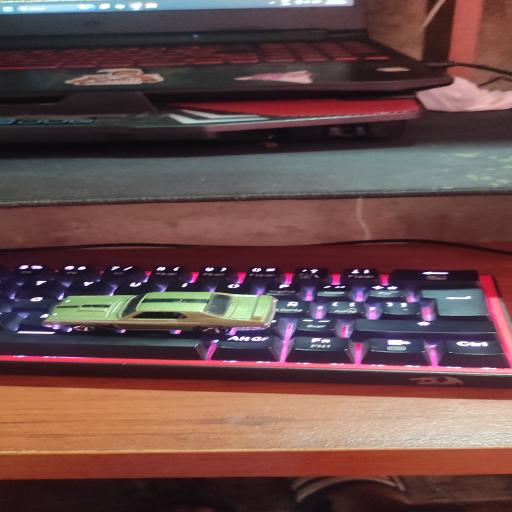Carrito: (45, 291, 276, 331)
